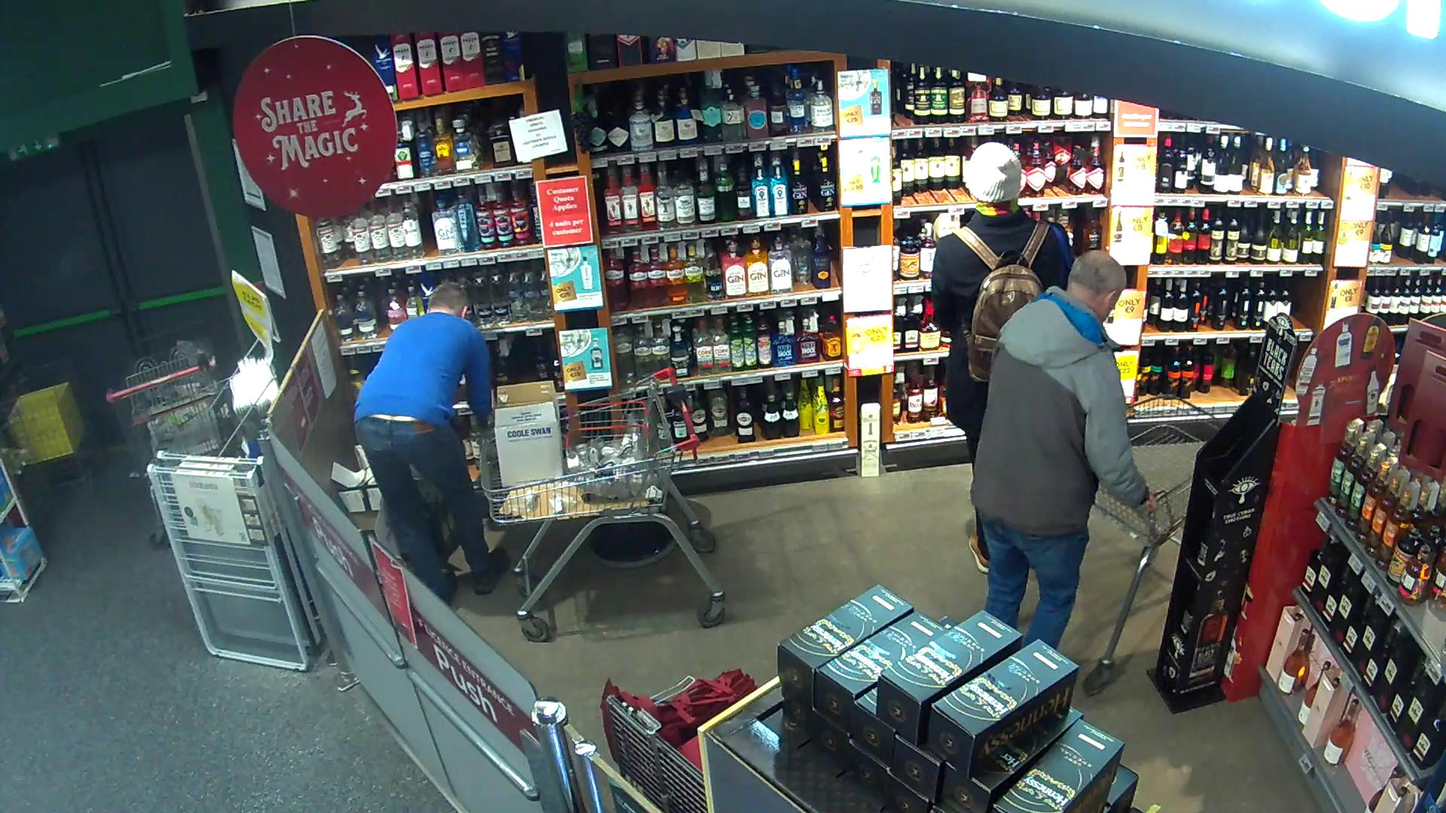backpack-or-handbag: (965, 255, 1042, 380)
empty-trolly: (1084, 391, 1225, 693)
person: (970, 249, 1157, 650), (934, 141, 1072, 572)
person-with-backpack-handbag: (934, 140, 1072, 573)
person-with-empty-basket-trolly: (971, 248, 1224, 691)
